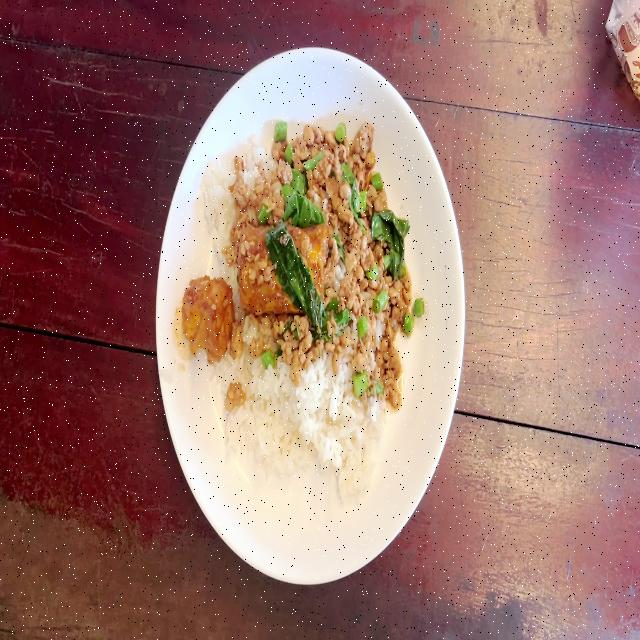fried_tofo: (241, 225, 329, 312), (183, 274, 231, 360)
minced_pork: (326, 124, 416, 405), (226, 120, 326, 221)
rice: (220, 366, 380, 488)
stir_fried_basil: (201, 114, 419, 496)
